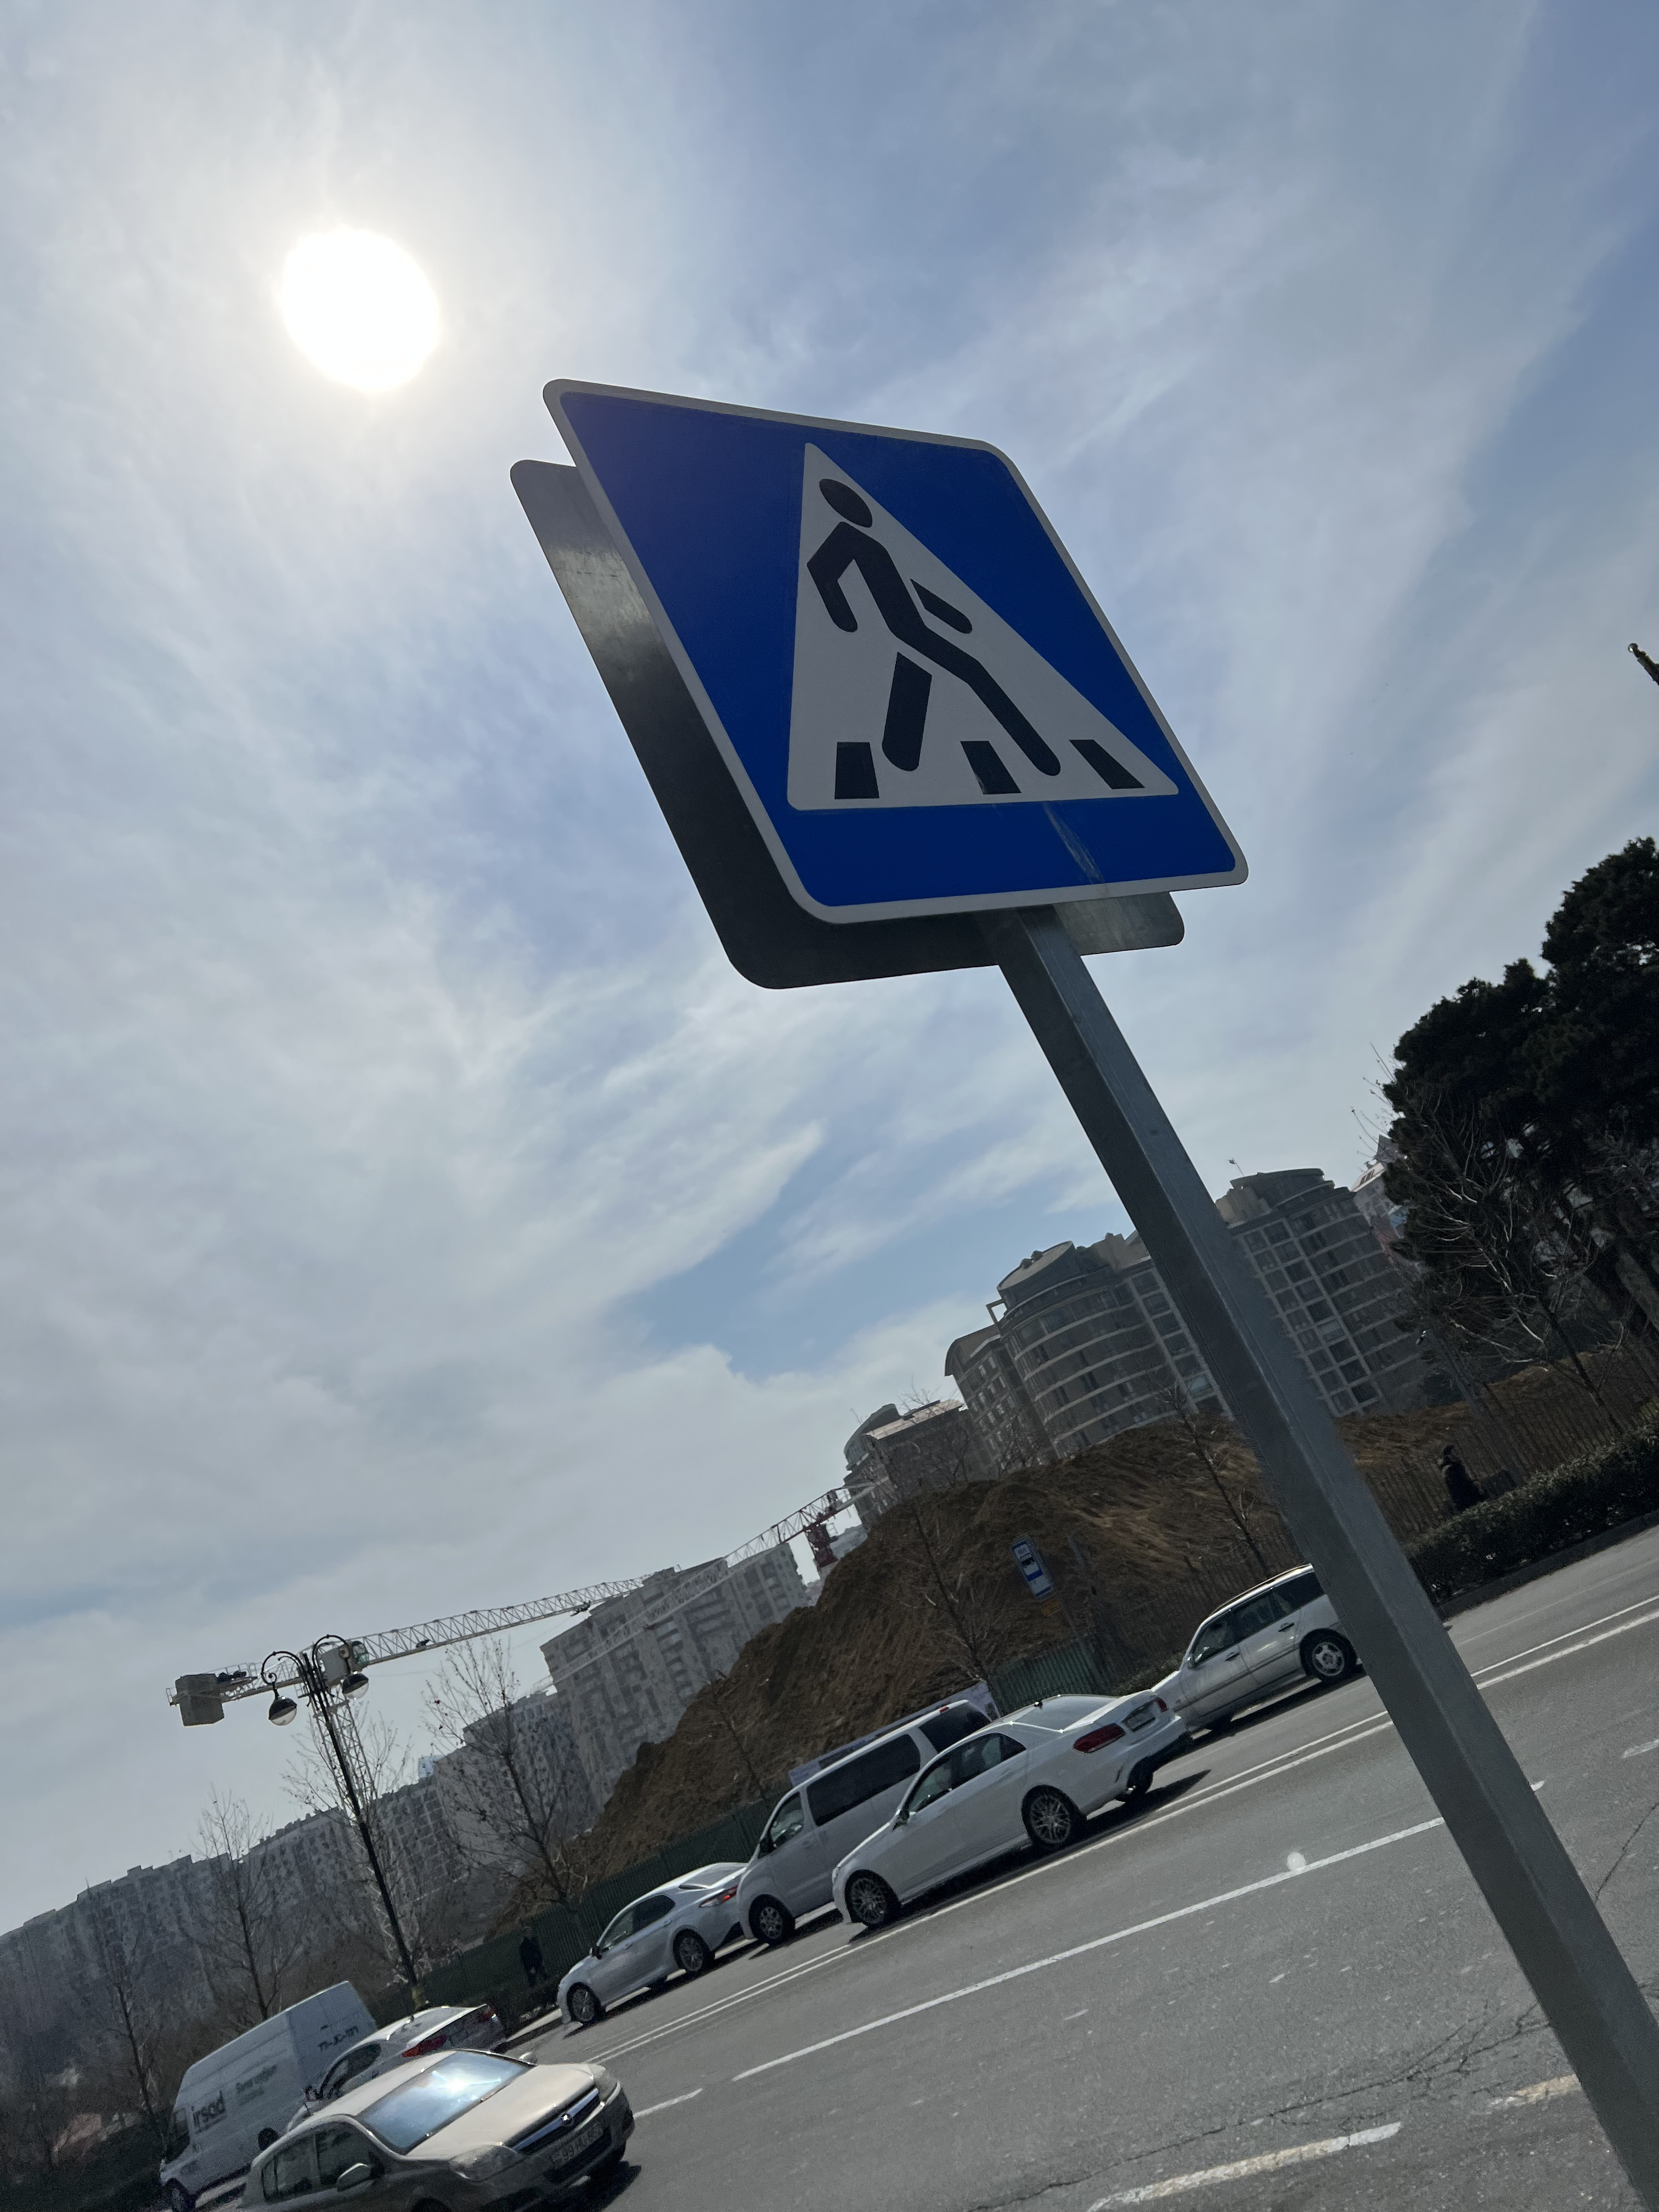Pedestrian Crossing: (538, 381, 1251, 897)
